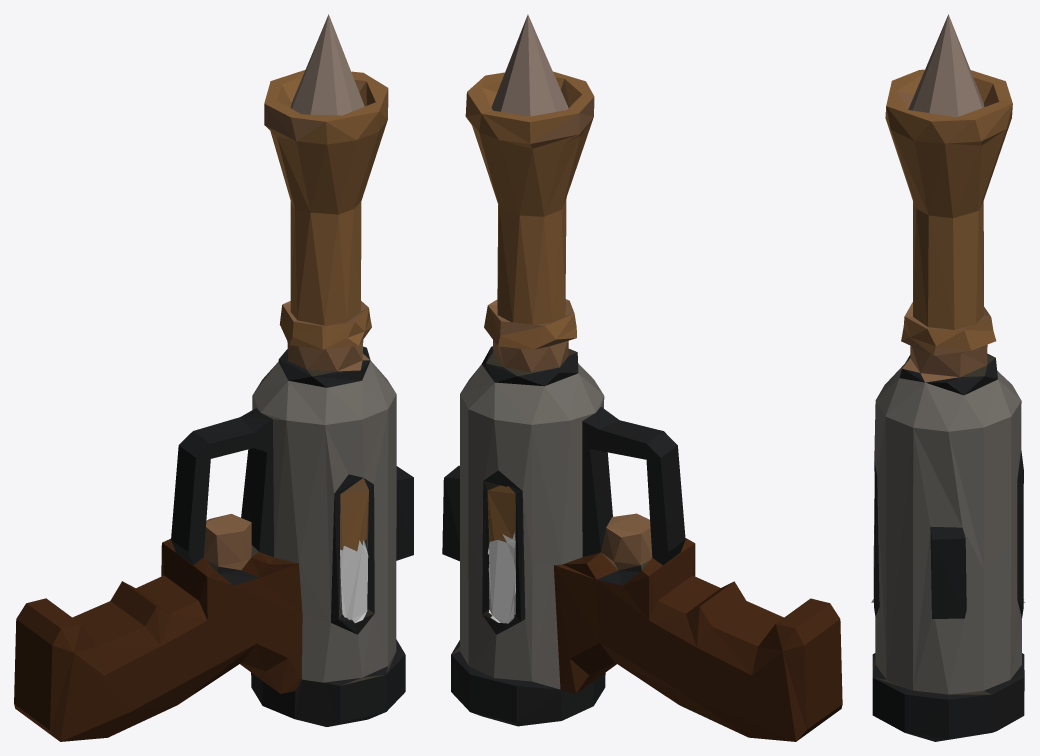
Rendered from aiwpn_flamer.glb.
3 renders of one model, left to right at view 1: azimuth 30°, elevation 25°; view 2: azimuth 150°, elevation 25°; view 3: azimuth 270°, elevation 25°, orthographic. The views are drawn at different scales.
Visible parts, largest first — view 1: ca_aiwpn_flamer; view 2: ca_aiwpn_flamer; view 3: ca_aiwpn_flamer.
Part boxes in pixels (box(x1,y1,x2,y2)): ca_aiwpn_flamer: box(14, 14, 413, 741); ca_aiwpn_flamer: box(442, 14, 842, 741); ca_aiwpn_flamer: box(871, 14, 1025, 741).
Size of the model in its own units: 0.5112 by 0.9011 by 0.1787.
